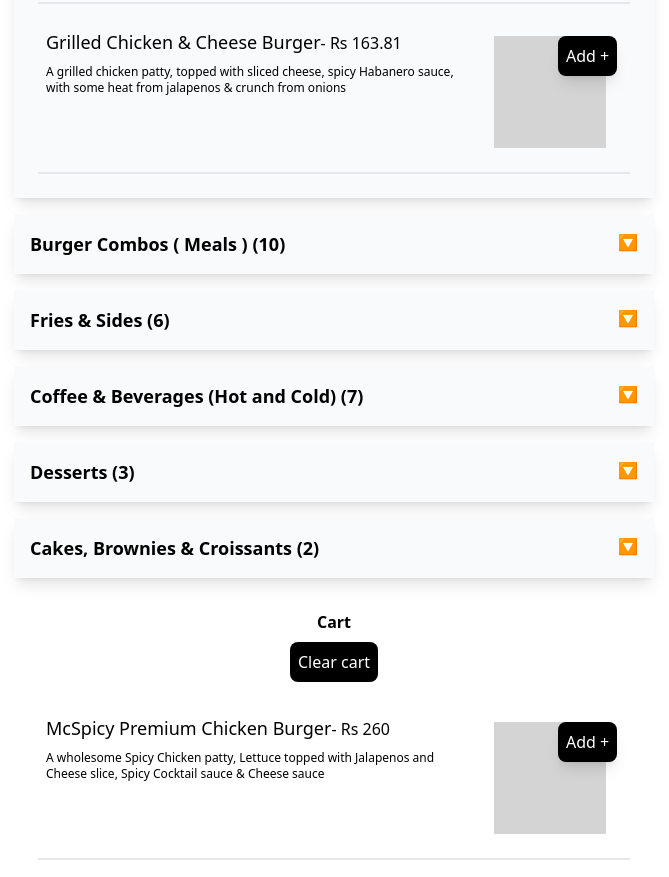
Test for cart page › SHould empty cart items when click on CLear Cart
This screenshot has width=669, height=877.
(page scrolled)
Click the button "Clear cart".
click(334, 662)  # box [290,642,378,682]
(page scrolled)
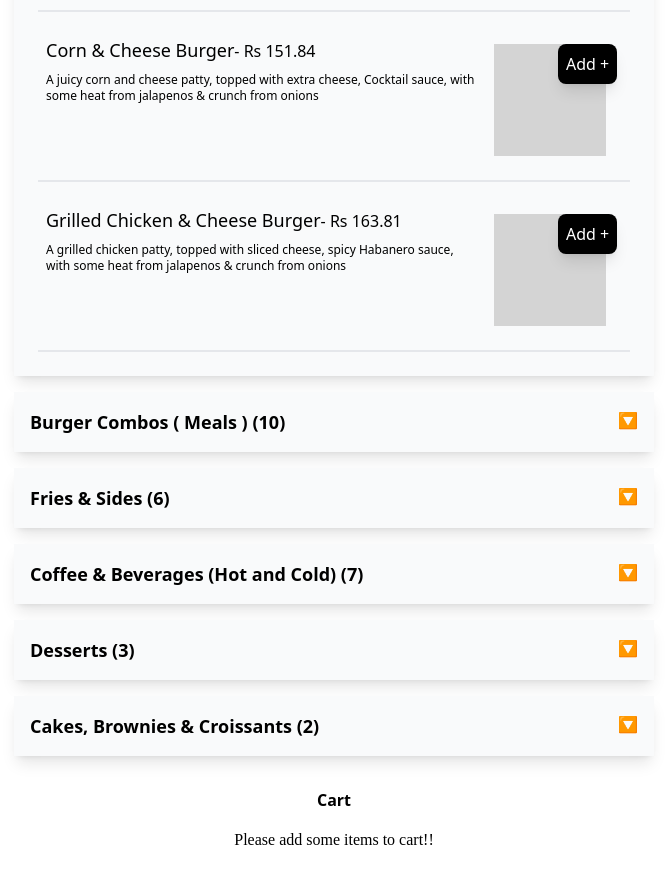
Expected: the heading "Please add some items to cart!!" is shown, [234,831,434,848]
